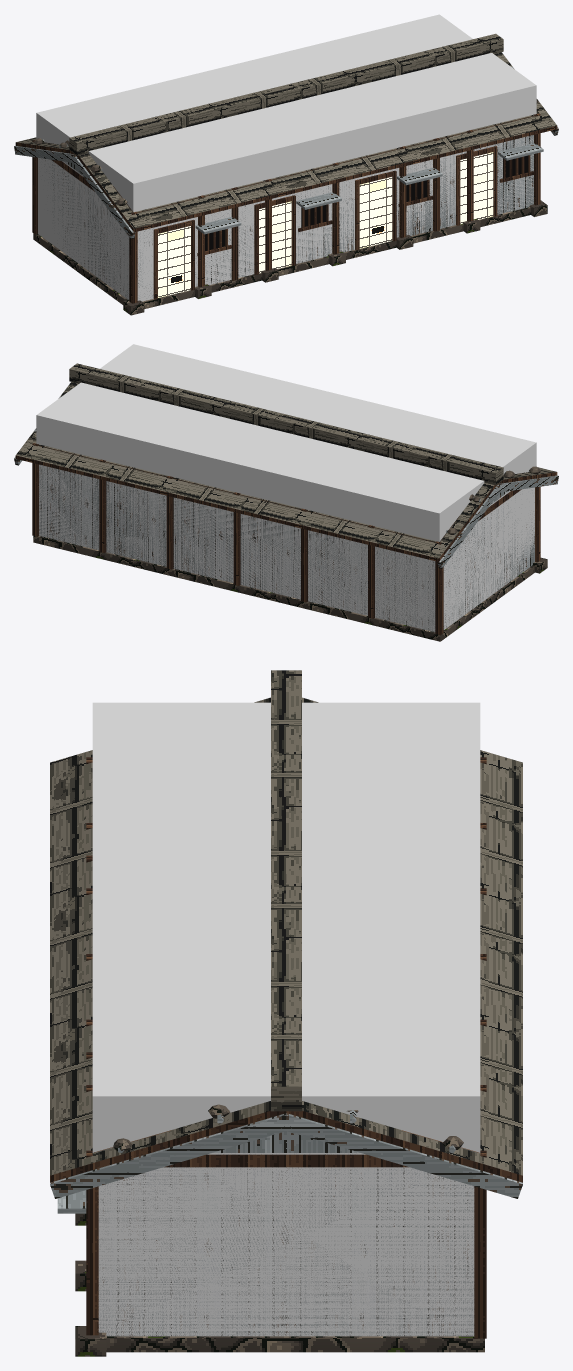
File: JP_Poor_RowHouse_A.glb
The picture shows the model from 3 angles, top to bottom: view 1: azimuth 30°, elevation 25°; view 2: azimuth 150°, elevation 25°; view 3: azimuth 270°, elevation 25°; orthographic projection. The views are drawn at different scales.
Parts seen in each view (by area): view 1: COL_JP_Poor_RowHouse_A, JP_Poor_RowHouse_A; view 2: COL_JP_Poor_RowHouse_A, JP_Poor_RowHouse_A; view 3: COL_JP_Poor_RowHouse_A, JP_Poor_RowHouse_A.
Boxes of the visible parts, x1=… form: COL_JP_Poor_RowHouse_A: x1=36, y1=14, x2=536, y2=301; JP_Poor_RowHouse_A: x1=14, y1=33, x2=558, y2=315; COL_JP_Poor_RowHouse_A: x1=36, y1=344, x2=536, y2=631; JP_Poor_RowHouse_A: x1=14, y1=363, x2=558, y2=641; COL_JP_Poor_RowHouse_A: x1=92, y1=702, x2=480, y2=1336; JP_Poor_RowHouse_A: x1=50, y1=670, x2=522, y2=1356.
Size of the model in its own units: 12.7 by 3.91 by 6.1.
Materials: 7 (7 with a texture image).
